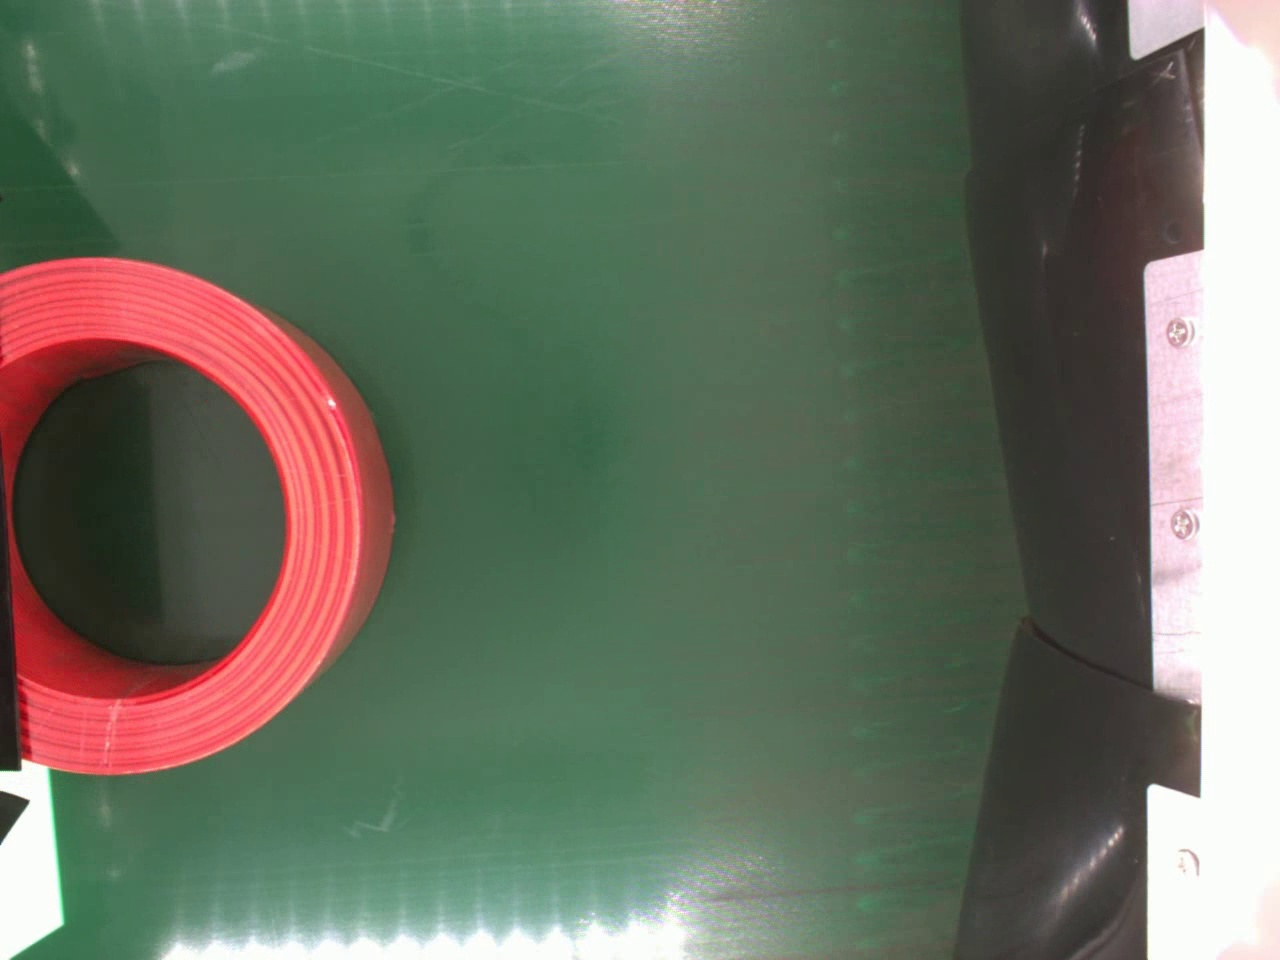red: (0, 254, 396, 777)
